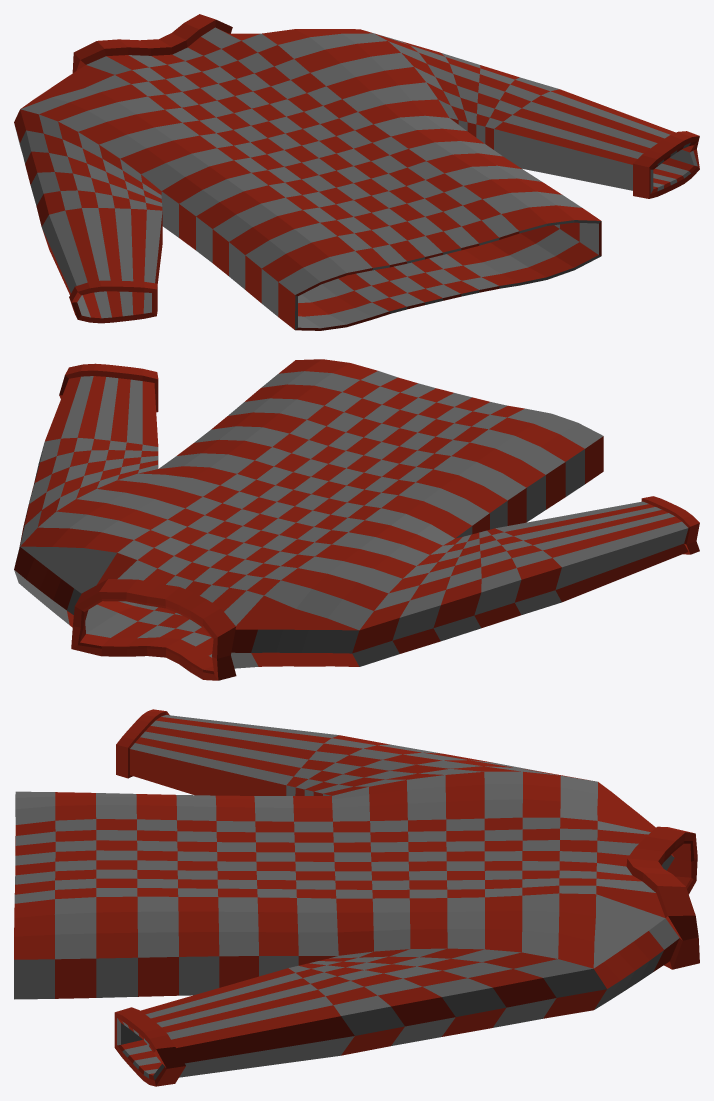
Rendered from Shirt 7.fbx.
3 views of the same model, one above another, from view 1: azimuth 30°, elevation 25°; view 2: azimuth 150°, elevation 25°; view 3: azimuth 270°, elevation 25° (orthographic). The views are drawn at different scales.
Parts seen in each view (by area): view 1: Node 0; view 2: Node 0; view 3: Node 0.
Part boxes in pixels (bbox=[...]): Node 0: bbox=[14, 14, 699, 330]; Node 0: bbox=[14, 359, 699, 680]; Node 0: bbox=[14, 709, 699, 1086].
Bounding box in the file's own units: 1.1 × 0.1419 × 1.31.
